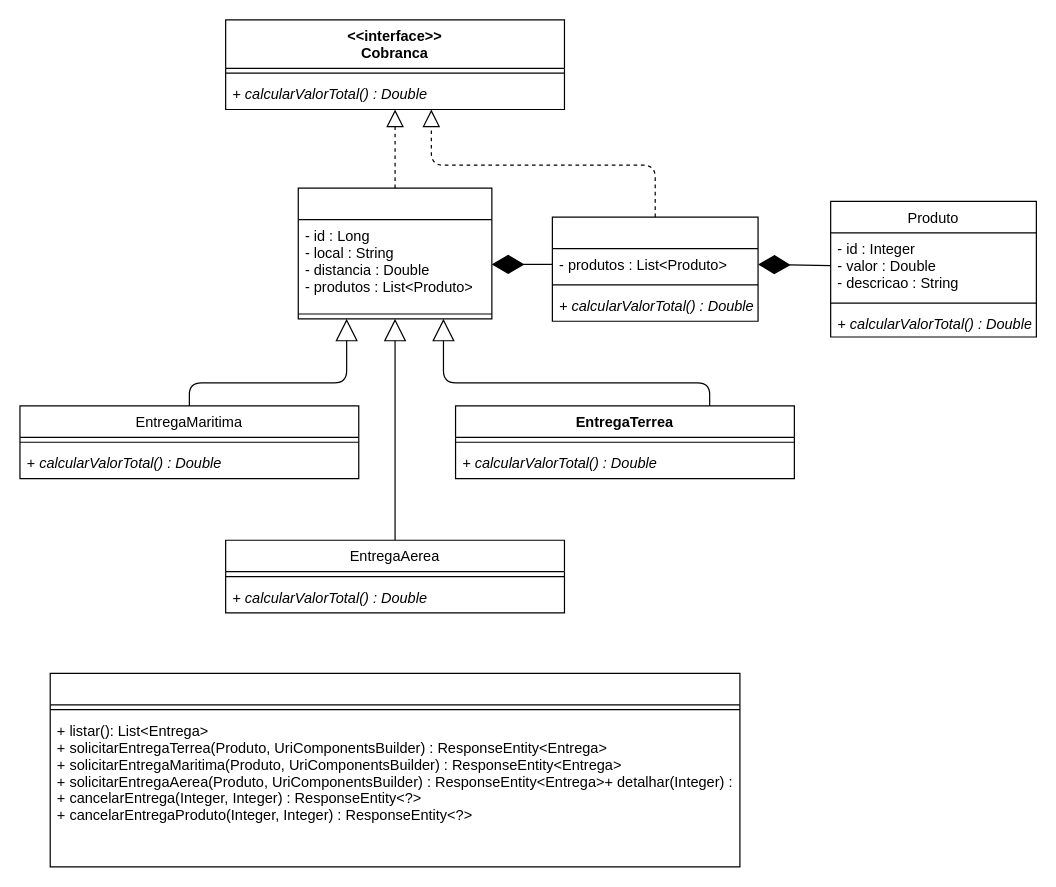
This 1056x887 diagram has some shape labels left out. The shapes that lost their labels are listed below. From the top down, each one's box as (x1, y1, x2, y2) in pixels, then its label:
(297, 187, 492, 319): Entrega
(551, 216, 758, 321): Carrinho
(49, 672, 740, 867): EntregaControler
